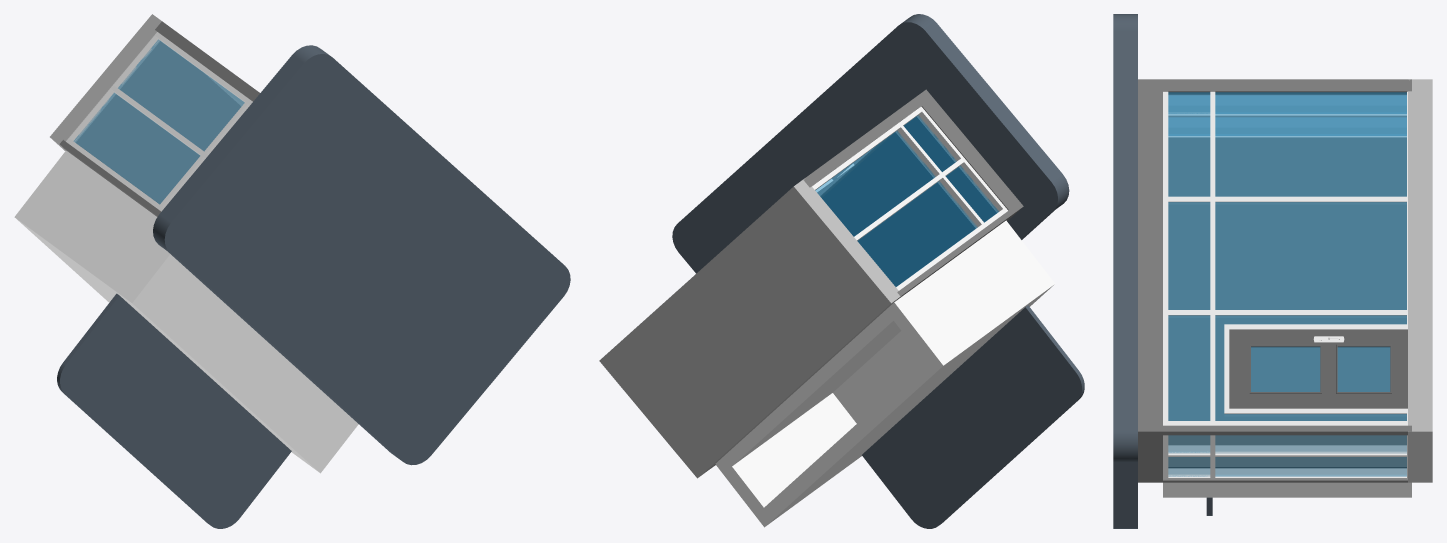
Rendered from M_T_Bank.obj.
3 renders of one model, left to right at view 1: azimuth 30°, elevation 25°; view 2: azimuth 150°, elevation 25°; view 3: azimuth 270°, elevation 25°, orthographic. The views are drawn at different scales.
Parts seen in each view (by area): view 1: Generic - 12", M&T Bank, White - Generic - 12" 2 - Site Plan, Generic - 12":1, White - Generic - 8" 2 - Site Plan:3, Glazed:6, Glazed:10, White - Generic - 8" 2 - Site Plan, Generic - 6", White - Generic - 8" 2 - Site Plan:2, 2.5" x 5" rectangular:19, 2.5" x 5" rectangular:38; view 2: Generic - 12":1, Generic - 12", M&T Bank, White - Generic - 8" 2 - Site Plan, White - Generic - 8" 2 - Site Plan:3, White - Generic - 8" 2 - Site Plan:2, White - Generic - 8" 2 - Site Plan:1, Glazed:10, Glazed:6, White - Generic - 12" 2 - Site Plan, Generic - 6", Glazed:11 (+7 smaller); view 3: Generic - 6":3, Glazed:1, Glazed, Generic - 12", Generic - 6":1, Generic - 12":1, 36" x 84":6, 36" x 84":8, Glazed:4, Glazed:5, Glazed:3, Generic - 6" (+39 smaller).
Part boxes in pixels (box(x1,y1,x2,y2)): Generic - 12": box(153, 45, 570, 465); M&T Bank: box(57, 293, 291, 528); White - Generic - 12" 2 - Site Plan: box(120, 245, 358, 473); Generic - 12":1: box(50, 14, 240, 203); White - Generic - 8" 2 - Site Plan:3: box(24, 161, 158, 281); Glazed:6: box(118, 39, 244, 150); Glazed:10: box(74, 93, 199, 203); White - Generic - 8" 2 - Site Plan: box(14, 205, 307, 463); Generic - 6": box(59, 21, 259, 216); White - Generic - 8" 2 - Site Plan:2: box(58, 150, 157, 230); 2.5" x 5" rectangular:19: box(154, 32, 249, 102); 2.5" x 5" rectangular:38: box(110, 85, 204, 155); Generic - 12":1: box(599, 178, 900, 478); Generic - 12": box(672, 14, 1069, 286); M&T Bank: box(862, 305, 1084, 528); White - Generic - 8" 2 - Site Plan: box(755, 280, 1043, 527); White - Generic - 8" 2 - Site Plan:3: box(893, 239, 1034, 361); White - Generic - 8" 2 - Site Plan:2: box(724, 229, 1002, 465); White - Generic - 8" 2 - Site Plan:1: box(715, 393, 856, 515); Glazed:10: box(858, 181, 977, 286); Glazed:6: box(815, 131, 935, 236); White - Generic - 12" 2 - Site Plan: box(833, 220, 1055, 423); Generic - 6": box(803, 89, 1023, 300); Glazed:11: box(946, 165, 998, 222); Generic - 6":3: box(1168, 138, 1406, 468); Glazed:1: box(1215, 202, 1406, 309); Glazed: box(1215, 92, 1406, 196); Generic - 12": box(1113, 14, 1137, 528); Generic - 6":1: box(1138, 91, 1411, 435); Generic - 12":1: box(1408, 79, 1432, 482); 36" x 84":6: box(1237, 333, 1407, 404); 36" x 84":8: box(1251, 347, 1389, 391); Glazed:4: box(1168, 202, 1209, 309); Glazed:5: box(1168, 315, 1209, 420); Glazed:3: box(1168, 92, 1209, 196); Generic - 6": box(1138, 79, 1411, 94).
Bounding box in the file's own units: 22.85 × 23.15 × 12.83.
